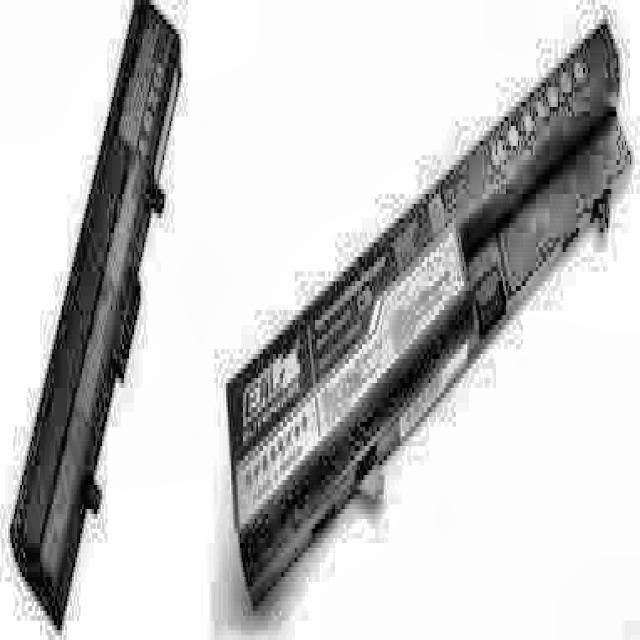Battery: (228, 19, 632, 602), (12, 0, 181, 630)
